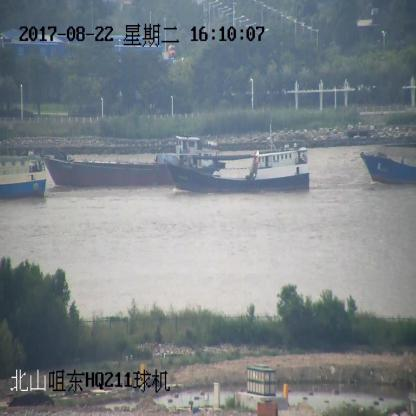Fishing Boat: (165, 125, 311, 190), (360, 145, 416, 186), (0, 150, 48, 197)
